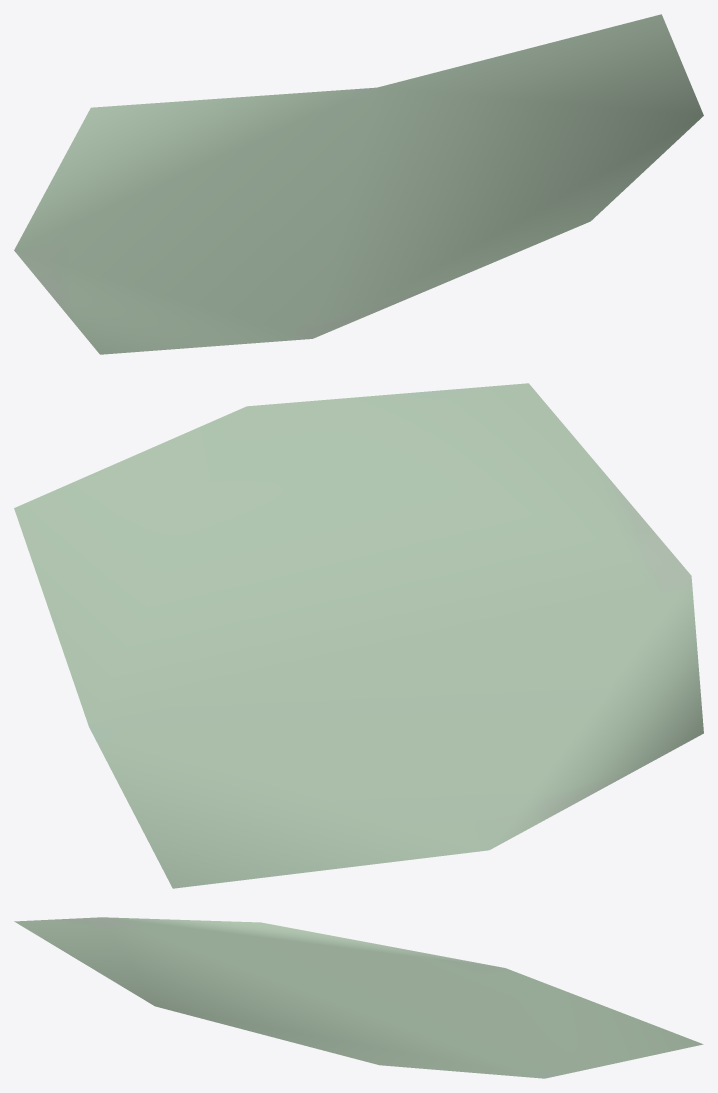
File: TROLLHOLE02_HOLECAP162.fbx
3 renders of one model, top to bottom at view 1: azimuth 30°, elevation 25°; view 2: azimuth 150°, elevation 25°; view 3: azimuth 270°, elevation 25°, orthographic. The views are drawn at different scales.
Parts seen in each view (by area): view 1: TROLLHOLE02_HOLECAP162; view 2: TROLLHOLE02_HOLECAP162; view 3: TROLLHOLE02_HOLECAP162.
Boxes of the visible parts, x1,y1,x2,y2 form: TROLLHOLE02_HOLECAP162: (14,14,703,354); TROLLHOLE02_HOLECAP162: (14,383,703,888); TROLLHOLE02_HOLECAP162: (14,917,703,1078).
Size of the model in its own units: 35793 by 10188 by 42225.
1 material, 1 textured.
